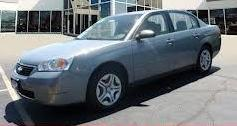front_view: (10, 55, 80, 105)
headlight: (35, 54, 75, 74)
side_glass: (138, 11, 202, 37)
